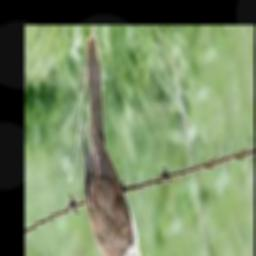Cuckoo: (81, 33, 152, 256)
